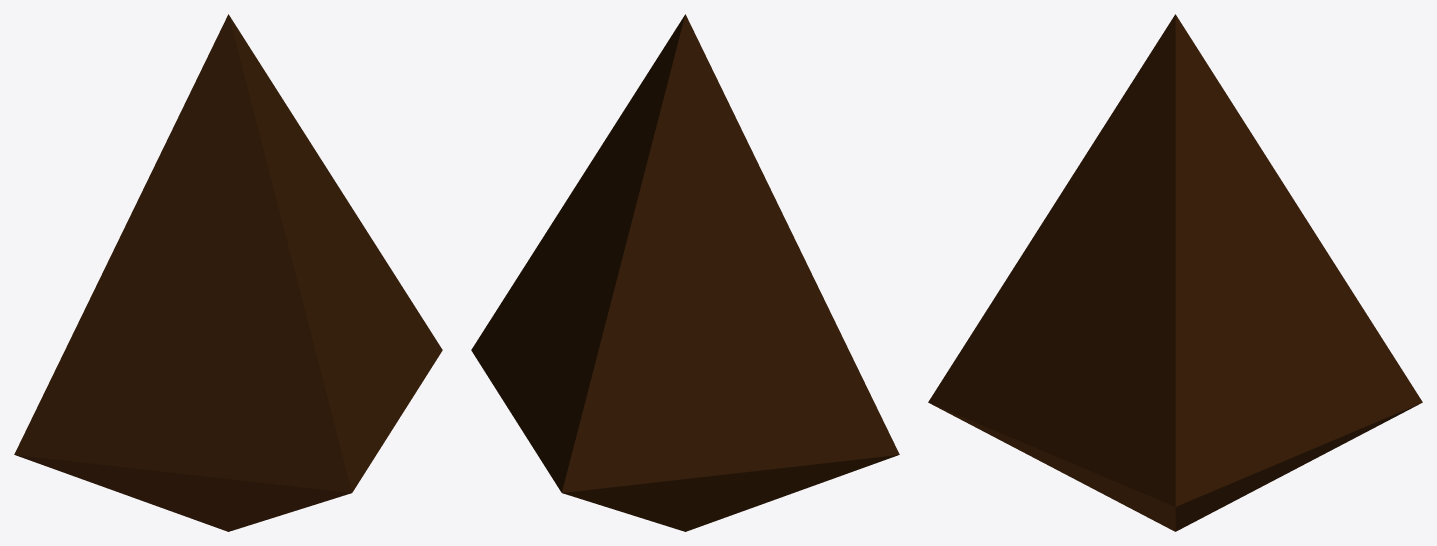
The model's file is campfire_big_dark_particle.fbx.
The picture shows the model from 3 angles, left to right: view 1: azimuth 30°, elevation 25°; view 2: azimuth 150°, elevation 25°; view 3: azimuth 270°, elevation 25°; orthographic projection.
Parts seen in each view (by area): view 1: campfire_fire_01; view 2: campfire_fire_01; view 3: campfire_fire_01.
Part boxes in pixels (box(x1,y1,x2,y2)): campfire_fire_01: box(14, 14, 442, 531); campfire_fire_01: box(471, 14, 899, 531); campfire_fire_01: box(928, 14, 1422, 531).
Size of the model in its own units: 1.73 by 2 by 1.73.
